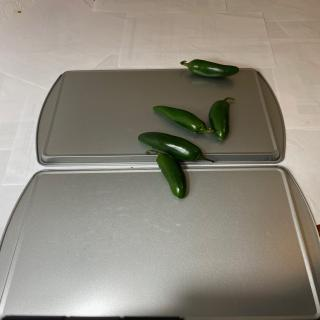Chilli: (137, 131, 214, 163), (152, 105, 214, 134)
Tomato: (146, 150, 187, 199), (180, 58, 239, 78), (208, 97, 235, 140)
